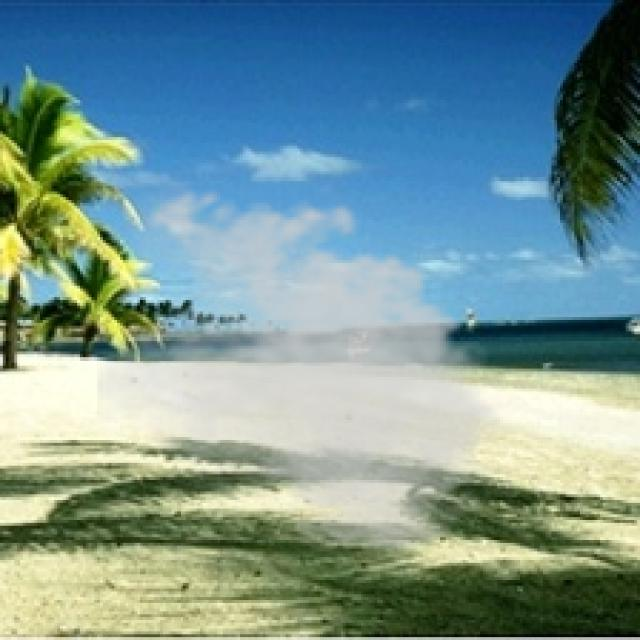smoke: (97, 177, 517, 560)
